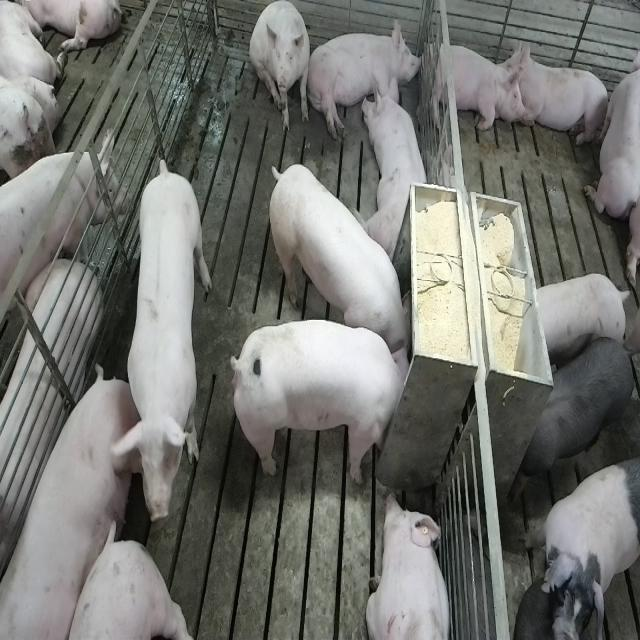Feeding: (226, 318, 411, 485), (264, 160, 411, 357)
Lateral_lying: (0, 368, 143, 640), (307, 15, 425, 142)
Sitting: (250, 2, 311, 134)
Standing: (125, 153, 212, 509), (0, 142, 121, 339), (511, 337, 638, 504), (525, 457, 637, 628), (532, 273, 627, 359)
Sternal_lying: (366, 490, 453, 640), (365, 72, 433, 260), (511, 42, 612, 150), (424, 37, 528, 137), (584, 36, 638, 222)
